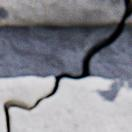broken_brick: (9, 79, 131, 131), (0, 0, 123, 27), (0, 78, 53, 131), (124, 16, 131, 27)
crack: (2, 0, 131, 131)
